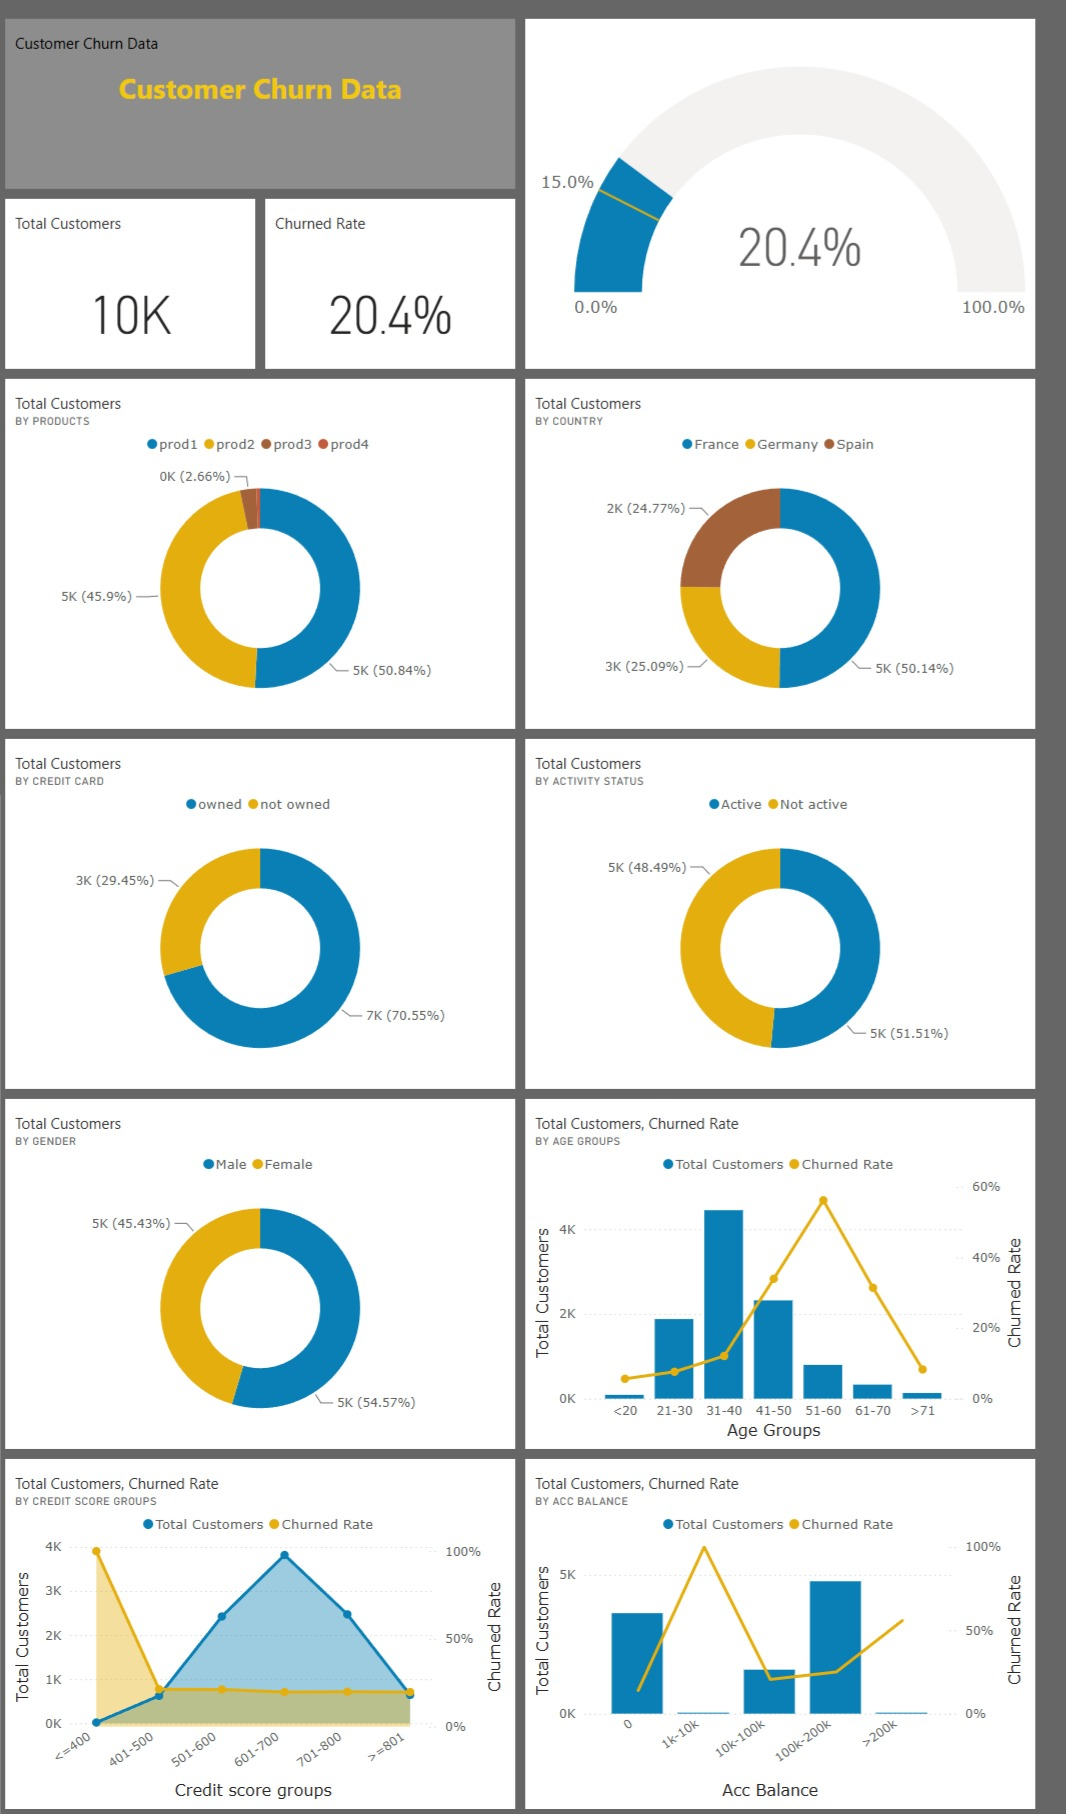

The dashboard page shown, as its layout file describes it:
{"tool":"powerbi","page":{"name":"Page 1","canvas":[1280,720],"ordinal":0},"visuals":[{"type":"card","fields":{"Values":["Acc Balance groups.Customers"]},"box":[527.2,33.1,165.3,102.1],"z":0},{"type":"card","fields":{"Values":["Customer data.Churned Rate"]},"box":[692.5,32.1,191.6,103.1],"z":2},{"type":"donutChart","fields":{"Category":["Customer data.Gender"],"Y":["Acc Balance groups.Customers"]},"box":[16.5,152.7,224.7,192.6],"z":3},{"type":"donutChart","fields":{"Category":["Customer data.Activity Status"],"Y":["Acc Balance groups.Customers"]},"box":[274.3,152.7,224.7,192.6],"z":4},{"type":"donutChart","fields":{"Category":["Customer data.Credit Card"],"Y":["Acc Balance groups.Customers"]},"box":[527.2,152.7,224.7,192.6],"z":5},{"type":"donutChart","fields":{"Category":["Customer data.Country"],"Y":["Acc Balance groups.Customers"]},"box":[784.9,152.7,224.7,192.6],"z":6},{"type":"donutChart","fields":{"Category":["Customer data.Products"],"Y":["Acc Balance groups.Customers"]},"box":[1036.8,152.7,224.7,192.6],"z":7},{"type":"lineStackedColumnComboChart","fields":{"Category":["Age groups.Age Groups"],"Y":["Acc Balance groups.Customers"],"Y2":["Customer data.Churned Rate"]},"box":[16.5,371.6,409.5,301.5],"z":8},{"type":"areaChart","fields":{"Category":["Credit scores groups.Credit score groups"],"Y":["Acc Balance groups.Total Customers"],"Y2":["Customer data.Churned Rate"]},"box":[455.2,371.6,395.9,301.5],"z":9},{"type":"lineStackedColumnComboChart","fields":{"Y":["Acc Balance groups.Customers"],"Y2":["Customer data.Churned Rate"],"Category":["Acc Balance groups.Acc Balance"]},"box":[884.1,371.6,377.4,301.5],"z":10},{"type":"slicer","fields":{"Values":["Customer data.Churn"]},"box":[1093.3,33.1,168.3,101.2],"z":11},{"type":"gauge","fields":{"Y":["Customer data.Churned Rate"],"MaxValue":["Max(Customer data.Max Churn Rate)"],"MinValue":["Min(Customer data.Min Churn Rate)"],"TargetValue":["Max(Customer data.Target Churn Rate)"]},"box":[871.5,33.1,221.8,102.1],"z":12},{"type":"shape","box":[16.5,31.1,482.4,104.1],"z":13},{"type":"textbox","box":[32.1,39.9,445.5,38.9],"z":14},{"type":"textbox","box":[32.1,84.6,269.4,37],"z":15}]}

Visuals, with their boxes on the page's 1280x720 design canvas (x1, y1, x2, y2). These are canvas units, not pixel positions in the 1066x1814 screenshot, which may show the page scaled, cropped or inside an application window:
card - Acc Balance groups.Customers: region(527, 33, 692, 135)
card - Customer data.Churned Rate: region(692, 32, 884, 135)
donutChart - Customer data.Gender x Acc Balance groups.Customers: region(16, 153, 241, 345)
donutChart - Customer data.Activity Status x Acc Balance groups.Customers: region(274, 153, 499, 345)
donutChart - Customer data.Credit Card x Acc Balance groups.Customers: region(527, 153, 752, 345)
donutChart - Customer data.Country x Acc Balance groups.Customers: region(785, 153, 1010, 345)
donutChart - Customer data.Products x Acc Balance groups.Customers: region(1037, 153, 1262, 345)
lineStackedColumnComboChart - Age groups.Age Groups x Acc Balance groups.Customers: region(16, 372, 426, 673)
areaChart - Credit scores groups.Credit score groups x Acc Balance groups.Total Customers: region(455, 372, 851, 673)
lineStackedColumnComboChart - Acc Balance groups.Customers x Customer data.Churned Rate: region(884, 372, 1262, 673)
slicer - Customer data.Churn: region(1093, 33, 1262, 134)
gauge - Customer data.Churned Rate x Max(Customer data.Max Churn Rate): region(872, 33, 1093, 135)
shape: region(16, 31, 499, 135)
textbox: region(32, 40, 478, 79)
textbox: region(32, 85, 302, 122)
